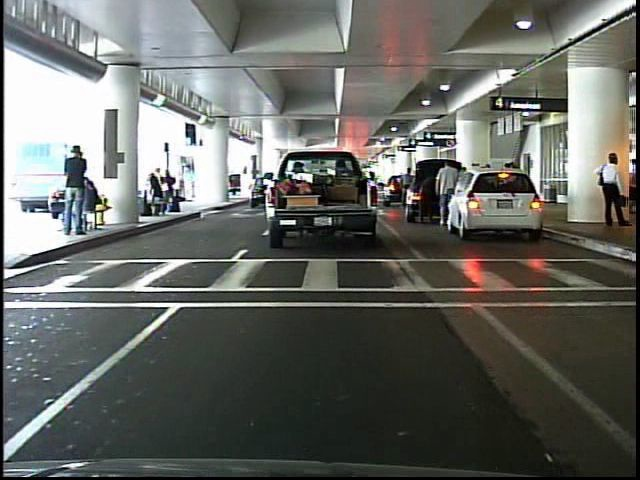person: (593, 146, 631, 232), (63, 139, 96, 238), (433, 158, 461, 231), (181, 162, 198, 205)
